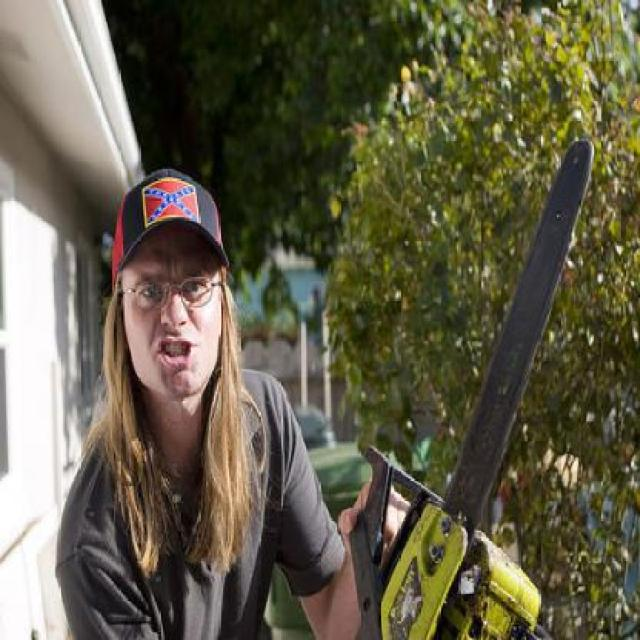Chainsaw: (348, 137, 594, 640)
